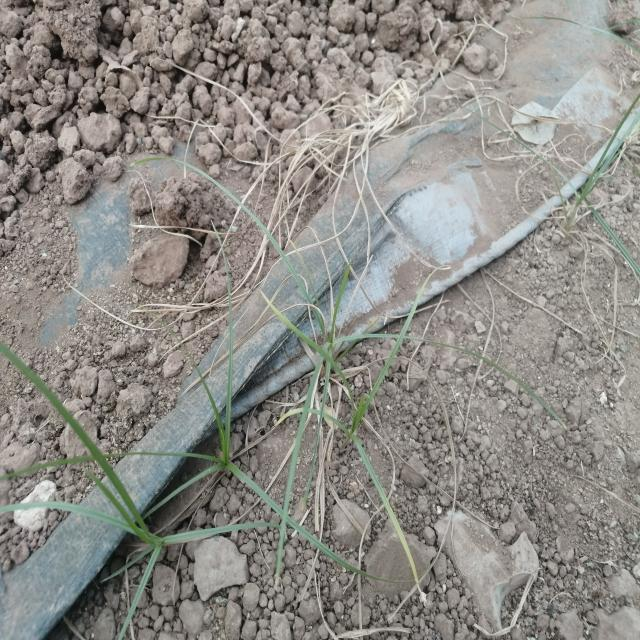sedge: (1, 316, 307, 578)
